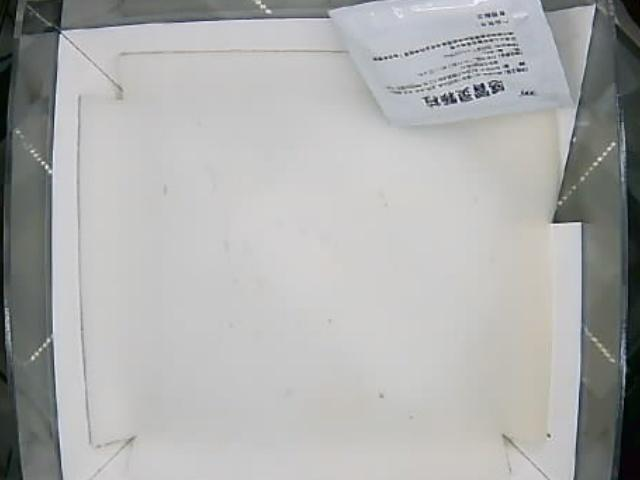Medicine: (328, 1, 573, 128)
